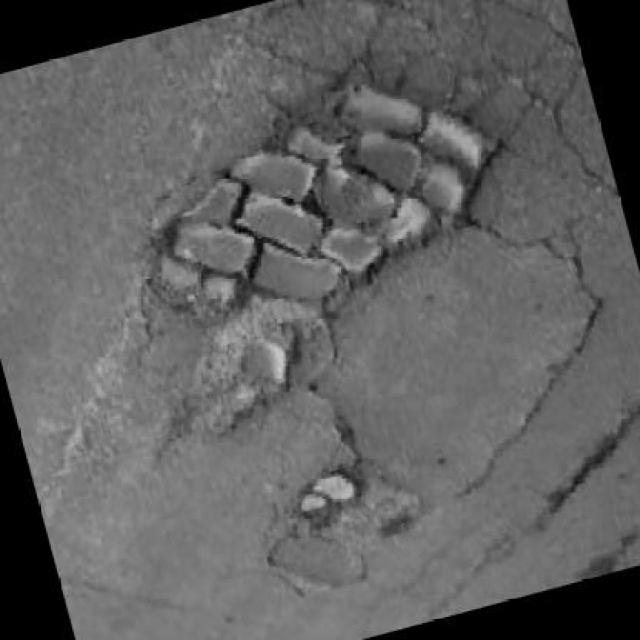pothole: (107, 37, 533, 352), (169, 300, 328, 448), (288, 466, 368, 536)
